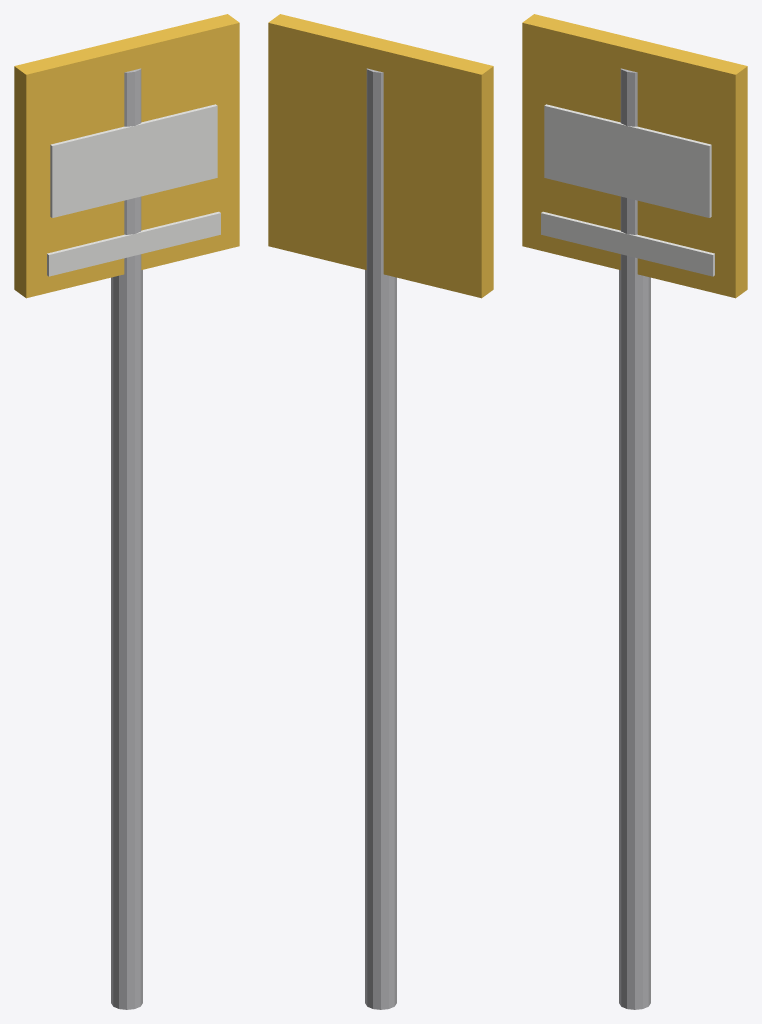
File: SM_DST_Prop_MeBike_Sign.fbx
The picture shows the model from 3 angles, left to right: view 1: azimuth 30°, elevation 25°; view 2: azimuth 150°, elevation 25°; view 3: azimuth 330°, elevation 25°; orthographic projection.
Parts seen in each view (by area): view 1: SM_DST_Prop_MeBike_Sign; view 2: SM_DST_Prop_MeBike_Sign; view 3: SM_DST_Prop_MeBike_Sign.
Boxes of the visible parts, box(x1,y1,x2,y2) form: SM_DST_Prop_MeBike_Sign: box(14, 14, 239, 1009); SM_DST_Prop_MeBike_Sign: box(268, 14, 493, 1009); SM_DST_Prop_MeBike_Sign: box(522, 14, 747, 1009).
Bounding box in the file's own units: 0.62 × 2.66 × 0.08.
